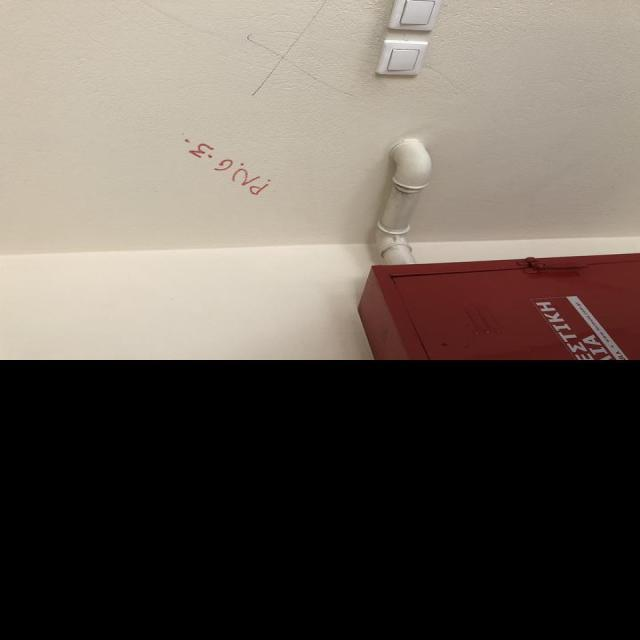nonspitting: (184, 138, 272, 197)
